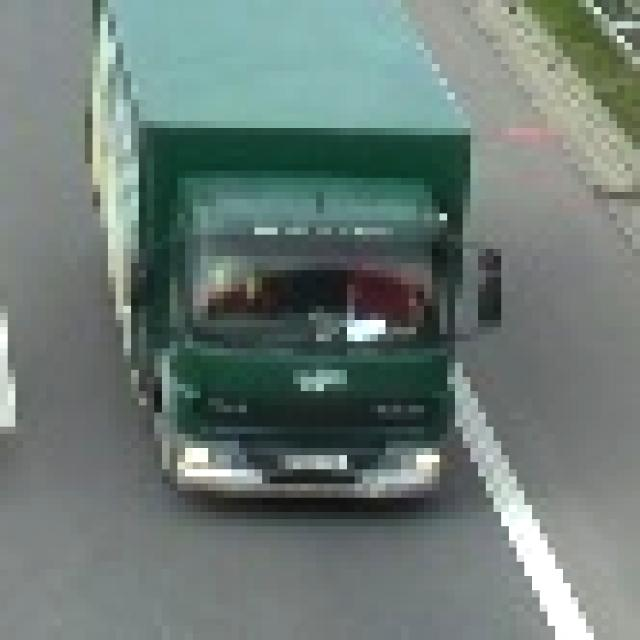truck: (78, 1, 495, 499)
